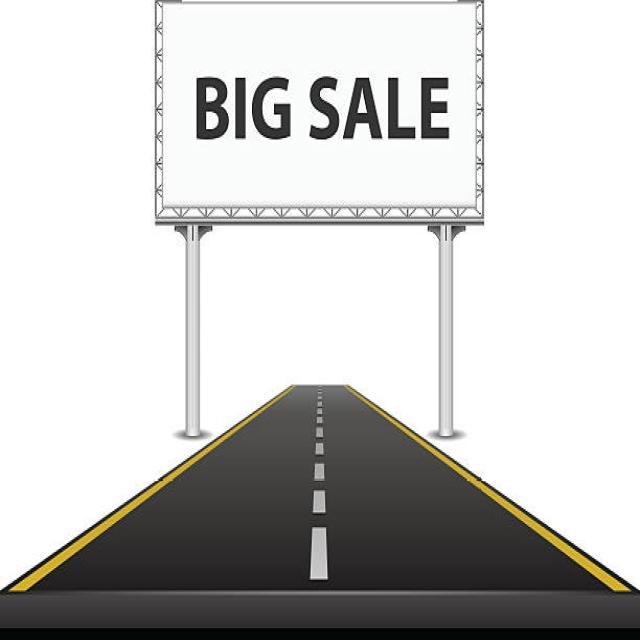Billboard_overhead: (148, 0, 520, 250)
Roadcorner: (339, 375, 632, 600), (9, 387, 296, 590)
Roadlane: (295, 387, 340, 586)
